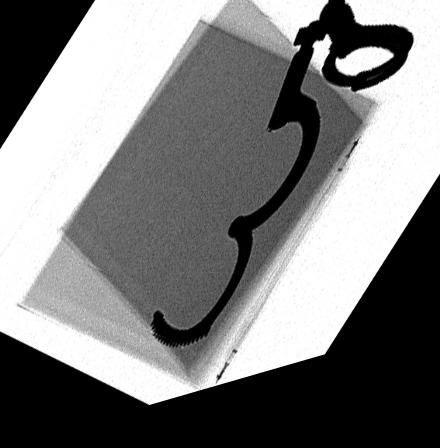HandCuffs: (150, 3, 416, 358)
